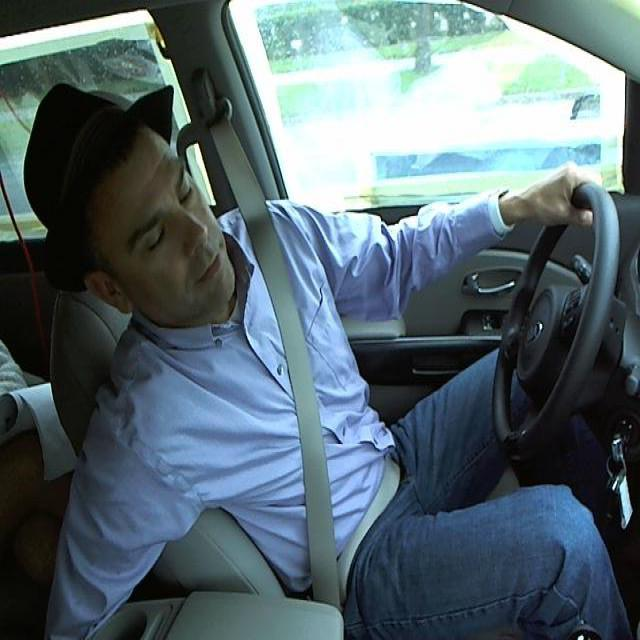seatbelt: (236, 229, 390, 571)
